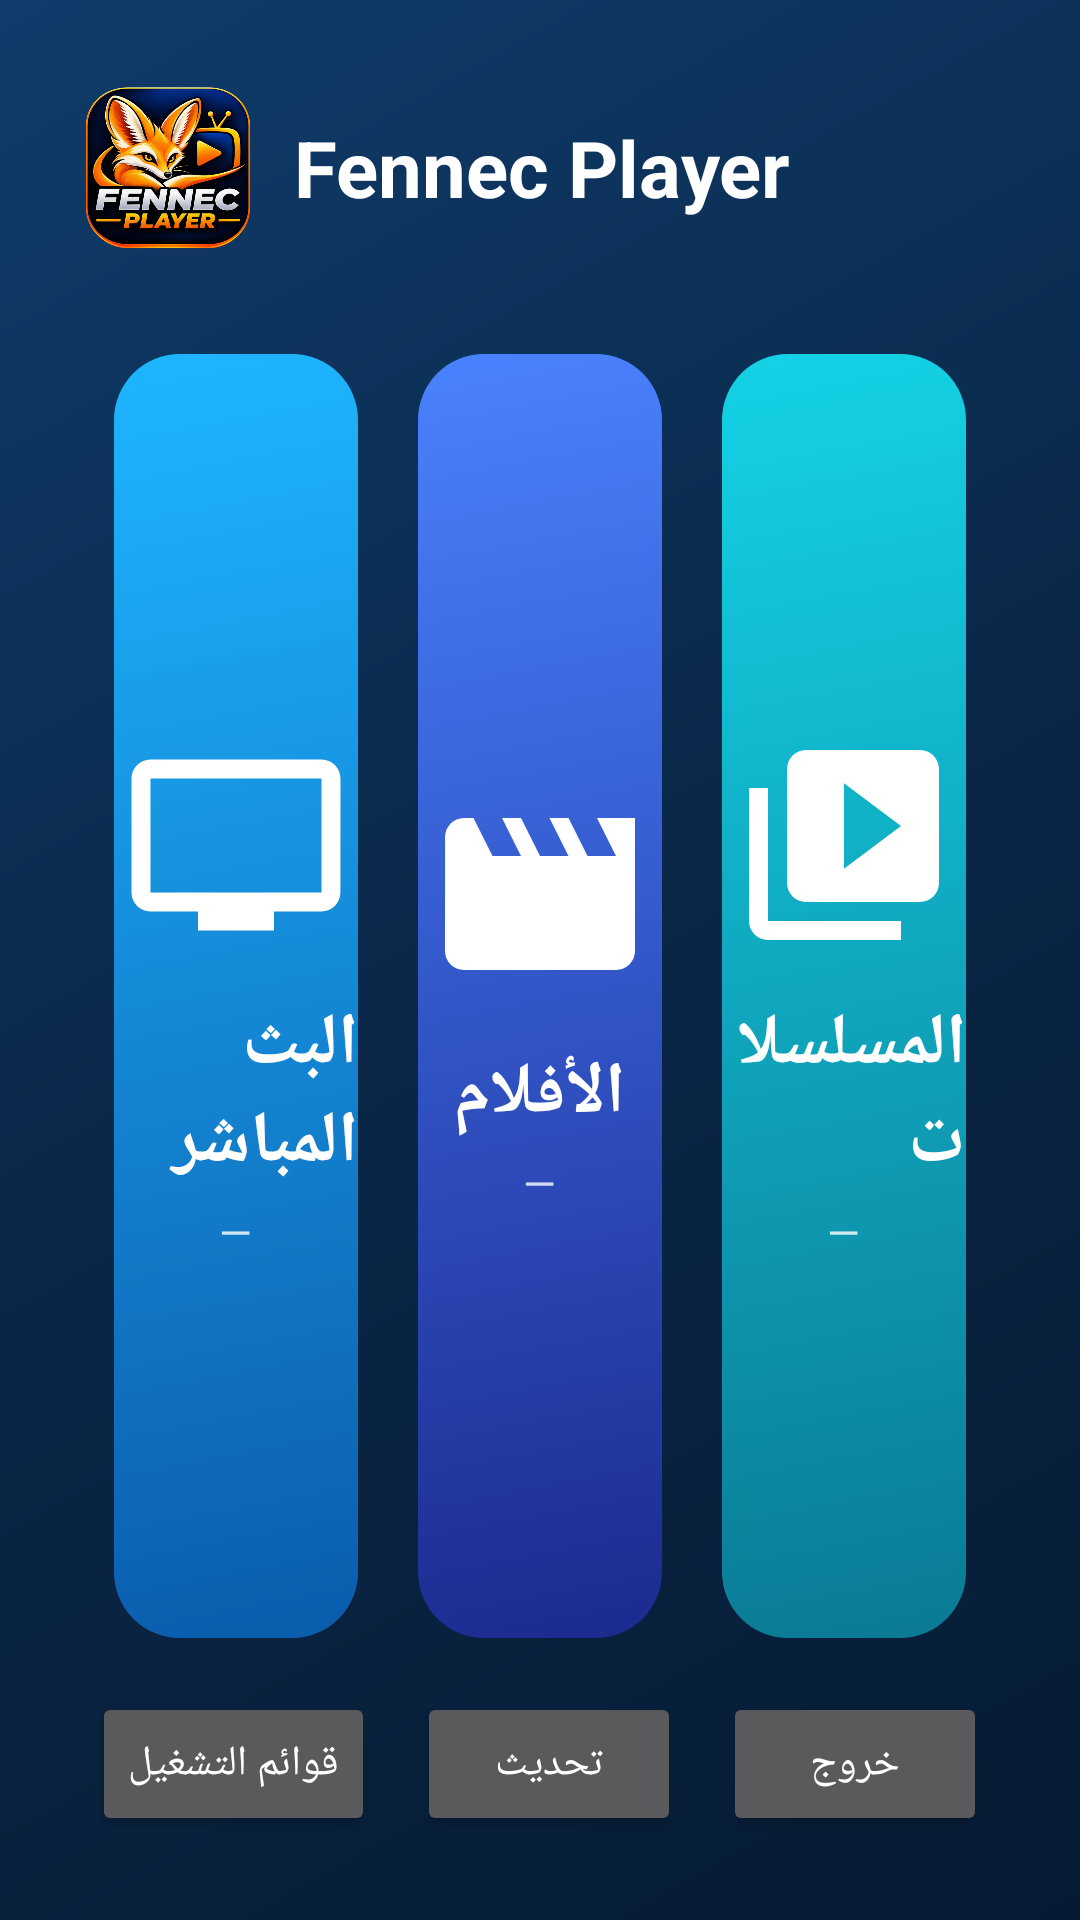

Icons on this 1080w x 1920h Android screen, each with its box as (x1, y1, x2, y2):
live: (131, 759, 341, 931)
movie: (445, 818, 635, 970)
series: (749, 750, 939, 940)
